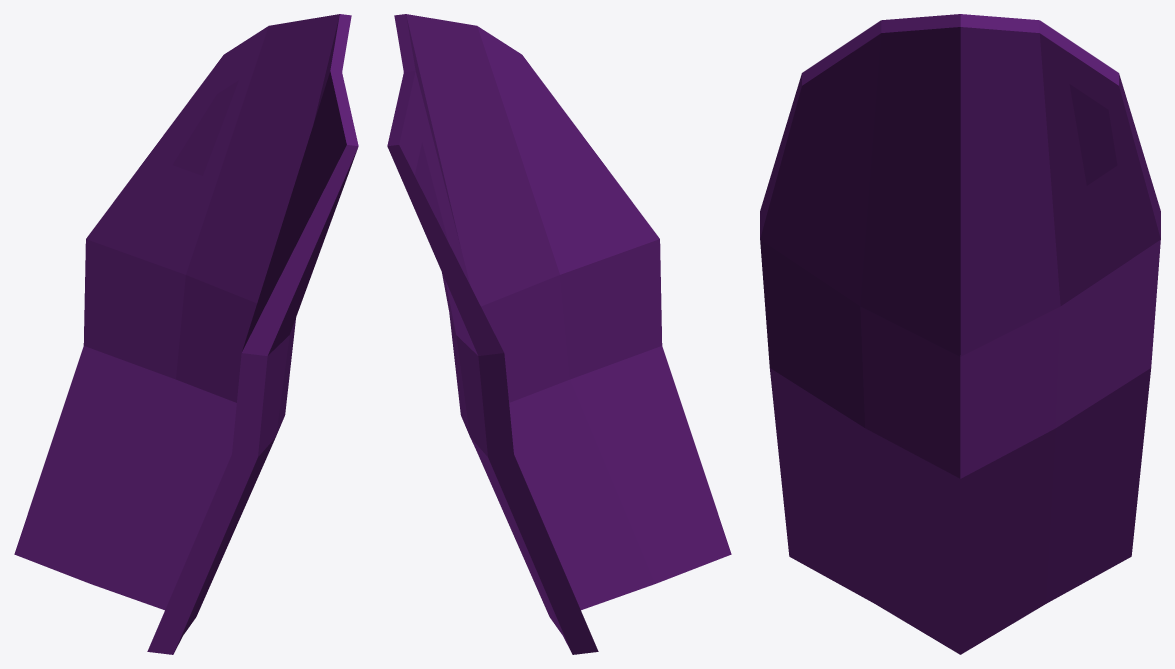
The model's file is Front_Style_Arm.fbx.
3 renders of one model, left to right at view 1: azimuth 30°, elevation 25°; view 2: azimuth 150°, elevation 25°; view 3: azimuth 270°, elevation 25°, orthographic. The views are drawn at different scales.
Parts seen in each view (by area): view 1: Style Arm.001; view 2: Style Arm.001; view 3: Style Arm.001.
Part boxes in pixels (x1,y1,x2,y2): Style Arm.001: [14, 14, 358, 654]; Style Arm.001: [387, 14, 731, 654]; Style Arm.001: [760, 14, 1160, 654].
Size of the model in its own units: 103 by 206 by 102.
